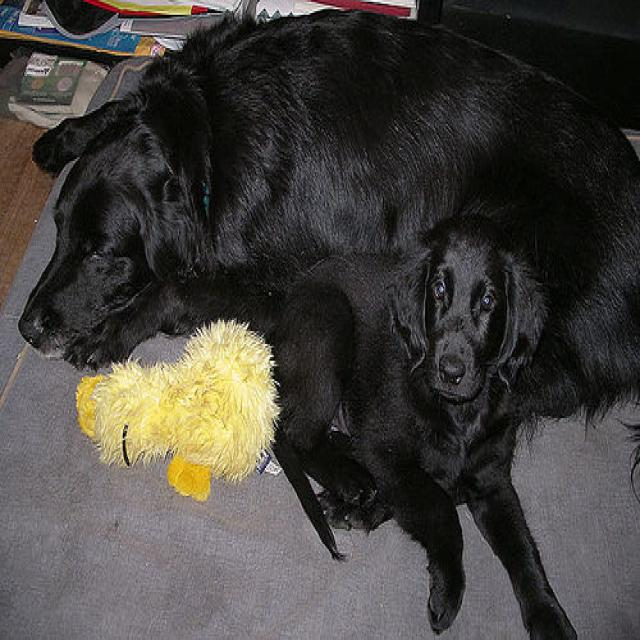dog: (14, 8, 640, 423), (237, 216, 589, 639)
